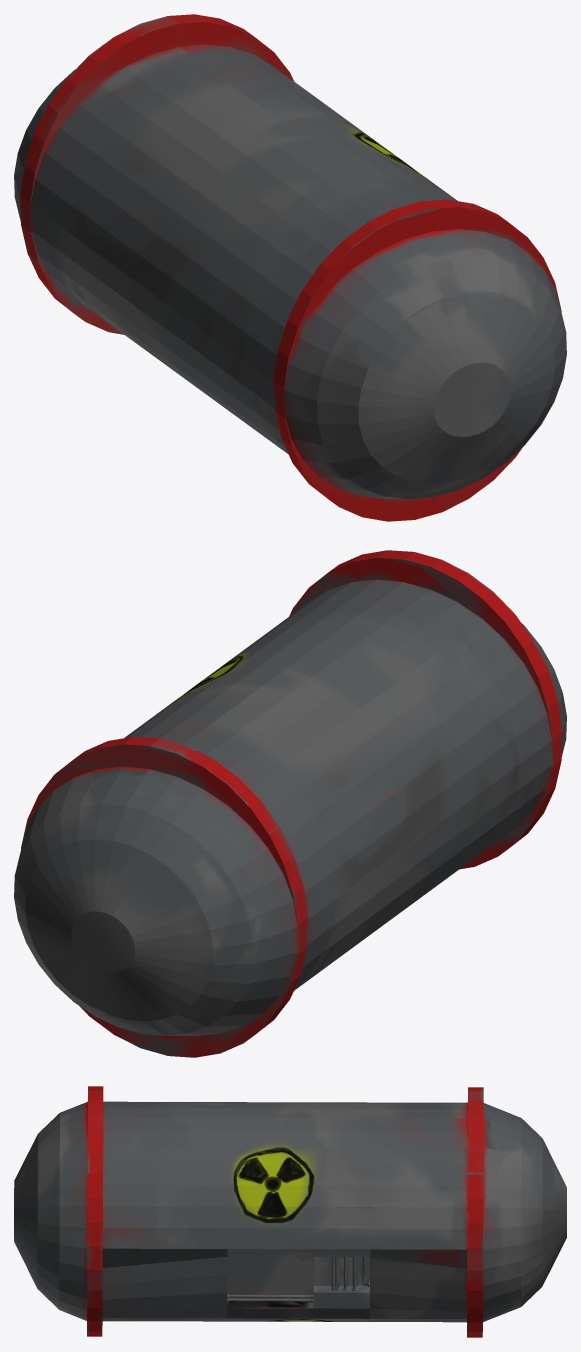
The model's file is dangerous-capsule-edit-final.glb.
3 views of the same model, one above another, from view 1: azimuth 30°, elevation 25°; view 2: azimuth 150°, elevation 25°; view 3: azimuth 270°, elevation 25° (orthographic). The views are drawn at different scales.
Parts seen in each view (by area): view 1: Cylinder; view 2: Cylinder; view 3: Cylinder.
Part boxes in pixels (x1,y1,x2,y2): Cylinder: (14,14,566,521); Cylinder: (14,550,566,1057); Cylinder: (14,1086,566,1337).
Bounding box in the file's own units: 0.4712 × 0.4969 × 1.08.
Materials: 1 (1 with a texture image).
